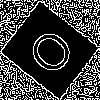O: (25, 25, 85, 84)
